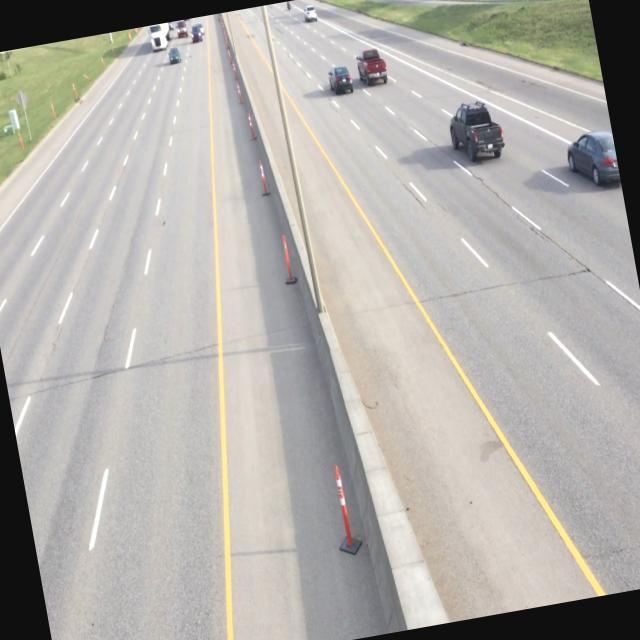Vehicle: (444, 95, 508, 170), (561, 124, 621, 195), (353, 43, 389, 89), (324, 61, 356, 100), (302, 2, 320, 24), (167, 45, 182, 66)
